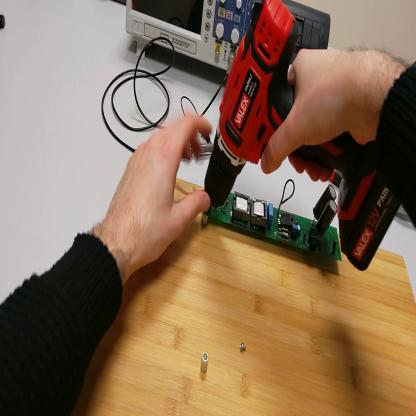electric screwdriver: (205, 1, 404, 273)
hand: (107, 109, 213, 273), (264, 44, 387, 179)
high voltage board: (202, 178, 350, 266)
oscilloscope: (127, 3, 255, 73)
oscilloscope probe tip: (198, 137, 216, 161)
working area: (71, 163, 416, 414)
